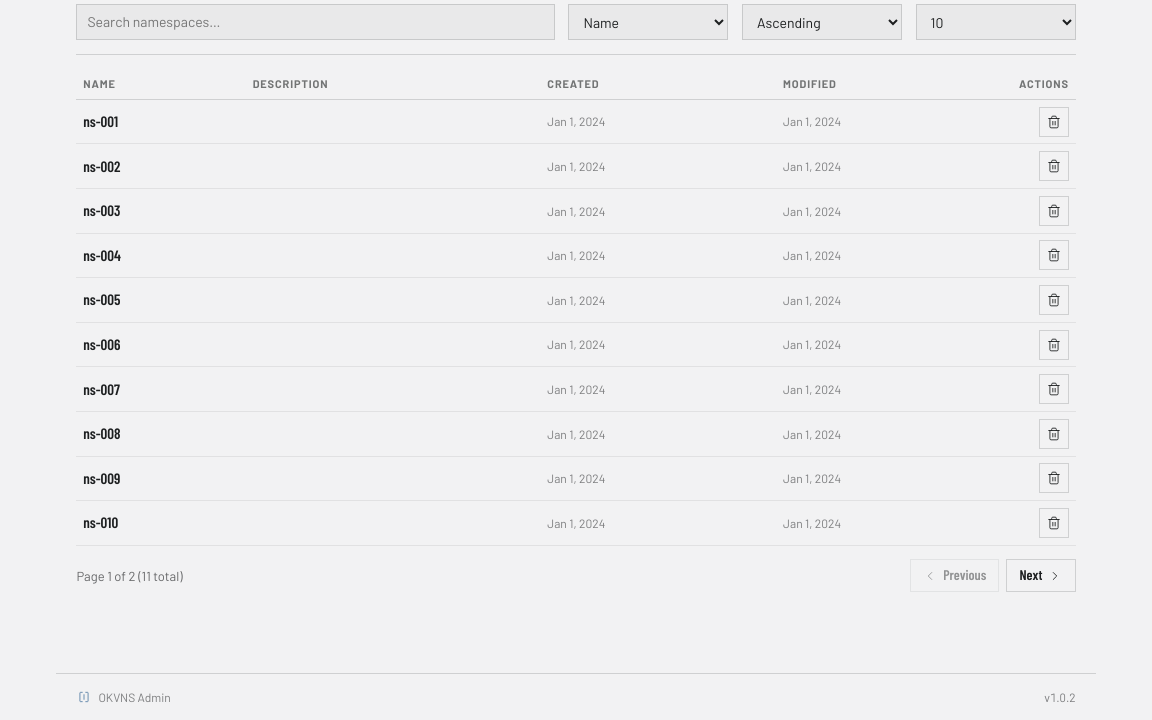
Scenario: NamespacesPage list controls › steps back a page when deleting the last namespace on the current page
The image size is (1152, 720).
(page scrolled)
Expected: the link "ns-001" is shown, [83,112,118,130]
Click the button with aria-label "Next page of namespaces": point(1041, 576) [1006,559,1076,592]
(page scrolled)
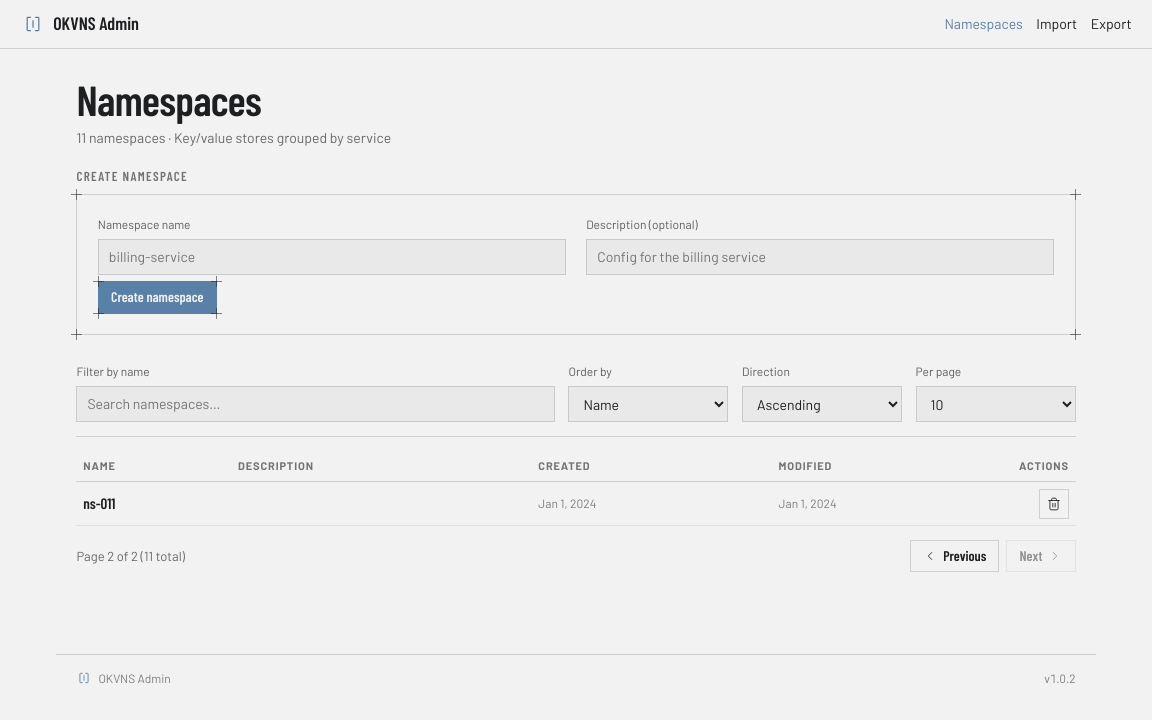
Expected: the link "ns-011" is shown, [83,494,115,512]
Click the button named "Delete namespace ns-011": point(1054, 504) [1039,489,1069,519]
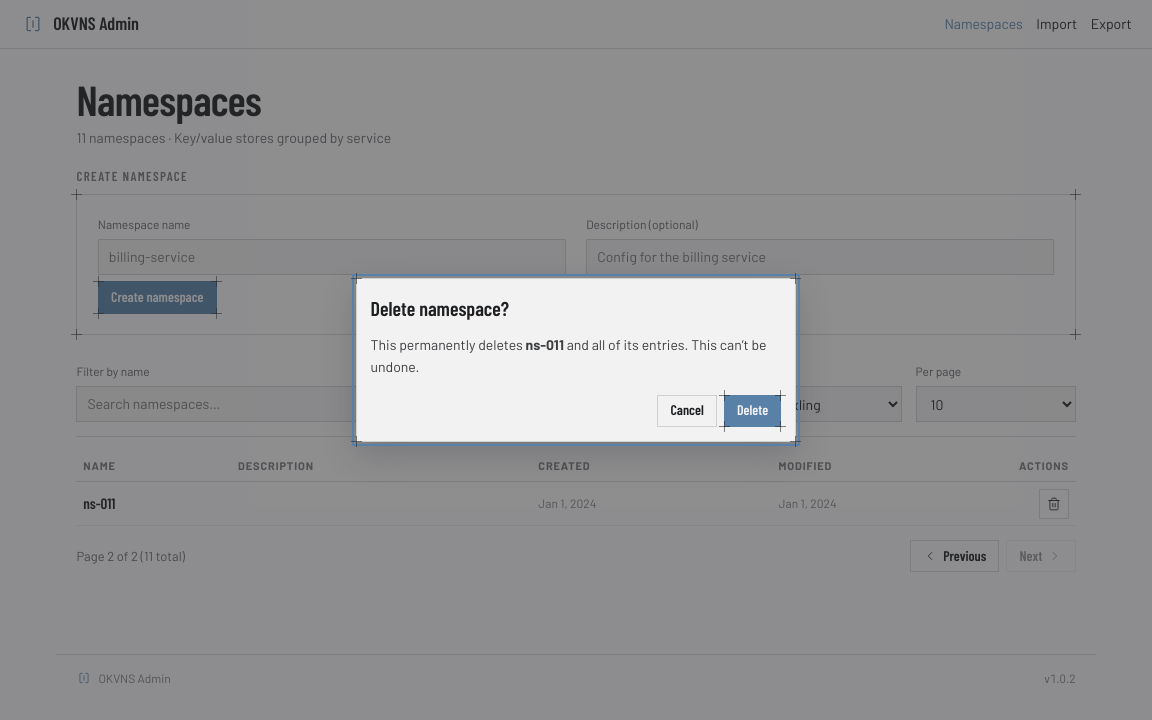
Click the button "Delete": point(753, 411) [724,395,781,427]
(page scrolled)
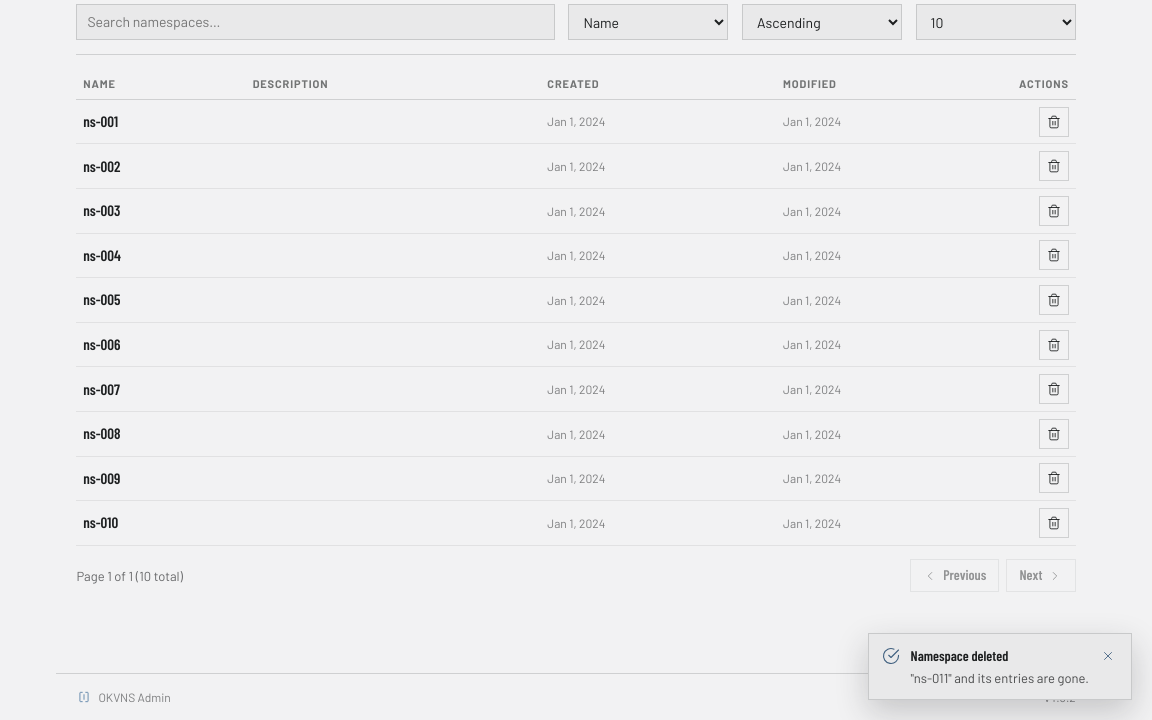
Expected: the link "ns-001" is shown, [83,112,118,130]
Expected: the text "Page 1 of 1 (10 total)" is shown, [76,566,183,586]
